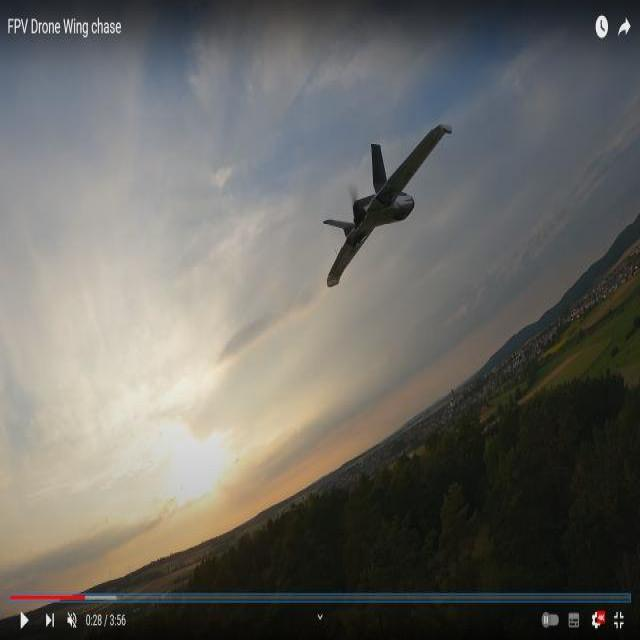iha: (354, 119, 414, 266)
